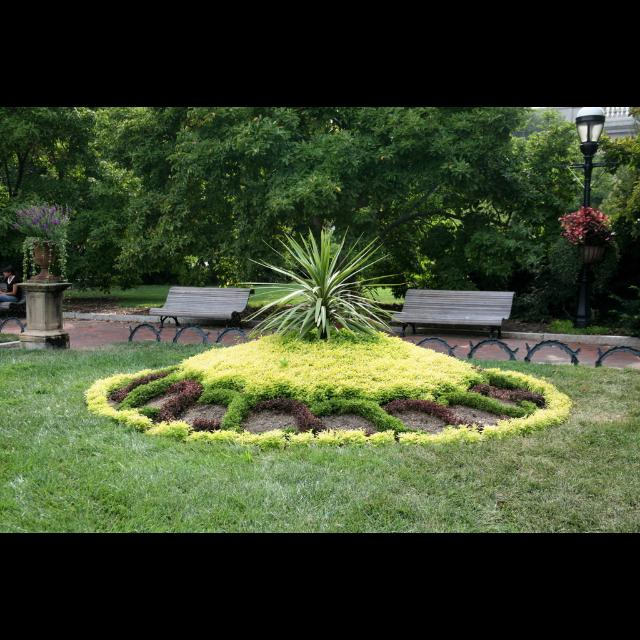Flower: (10, 206, 72, 228)
